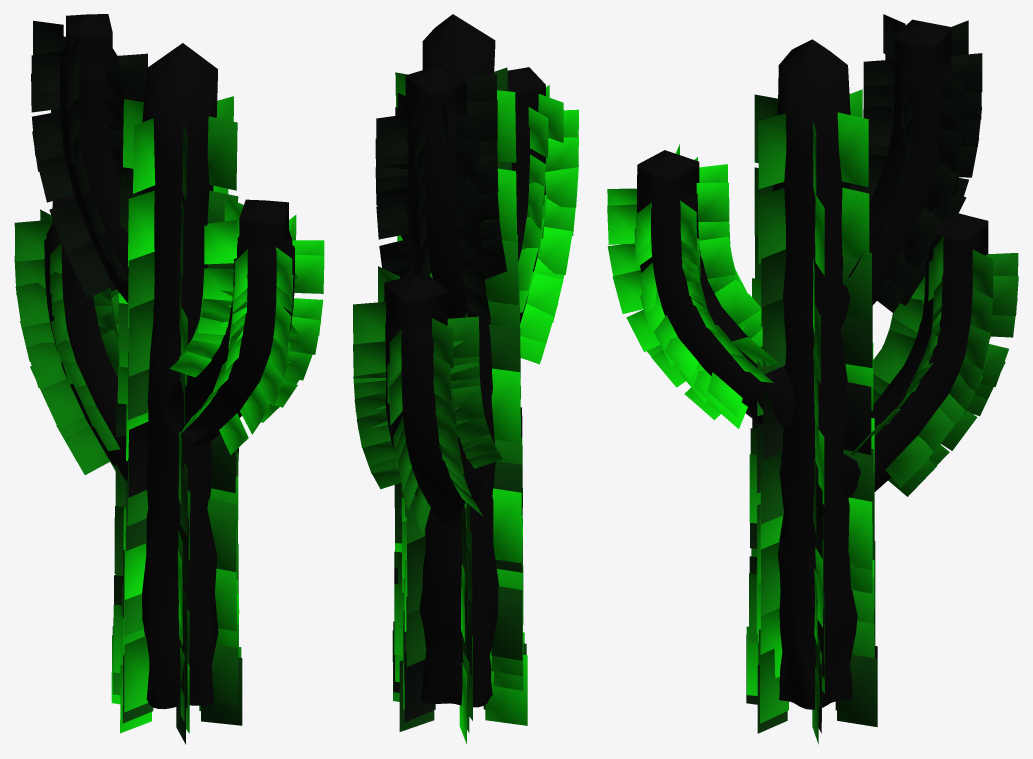
File: Cactus_1_3.fbx
3 renders of one model, left to right at view 1: azimuth 30°, elevation 25°; view 2: azimuth 150°, elevation 25°; view 3: azimuth 270°, elevation 25°, orthographic. The views are drawn at different scales.
Visible parts, largest first — view 1: Cactus_1_3; view 2: Cactus_1_3; view 3: Cactus_1_3.
Part boxes in pixels (<box>): Cactus_1_3: <box>14,14,324,744</box>; Cactus_1_3: <box>353,14,578,743</box>; Cactus_1_3: <box>607,14,1018,744</box>.
Size of the model in its own units: 77.95 by 346 by 190.
